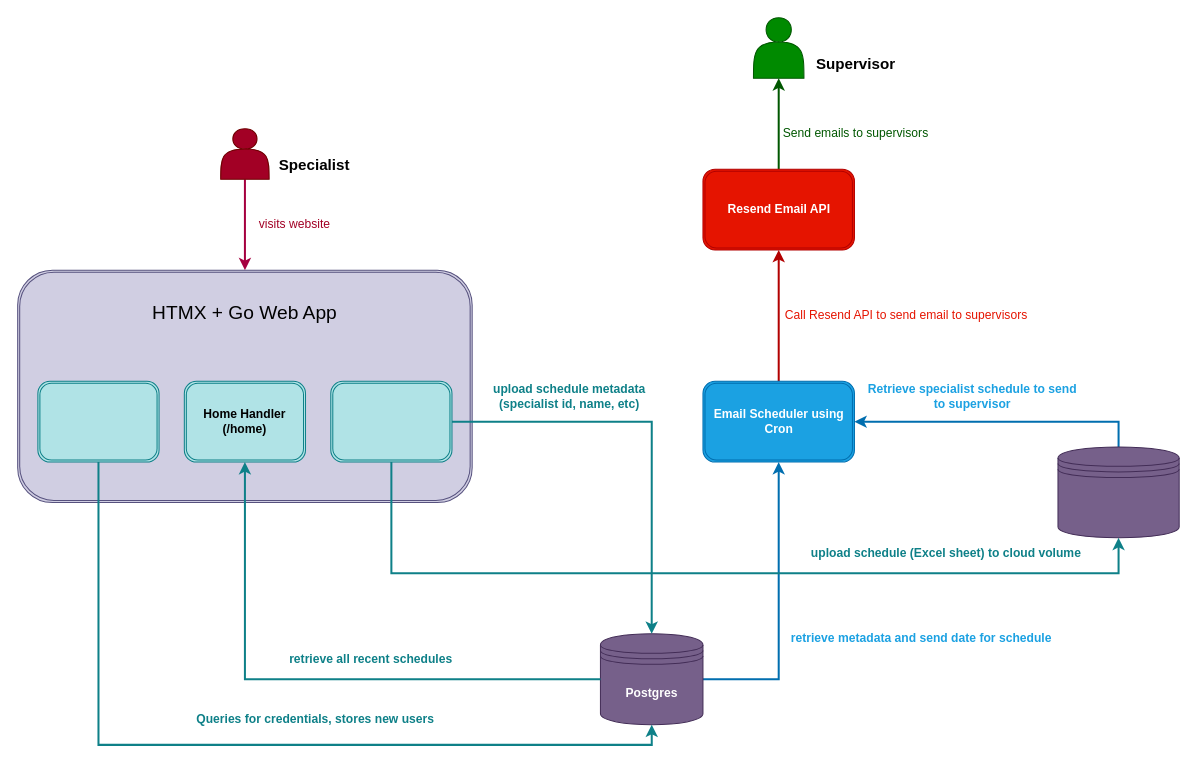
Image size: 1197x772. Some labels were removed from this diagram. Each missing label, with the centre of its shape:
"Cloud Volume (file storage)" goes at pixel 1118 492.
"Login Handler (/login)" goes at pixel 98 421.
"upload Handler (/upload-schedule)" goes at pixel 391 421.
